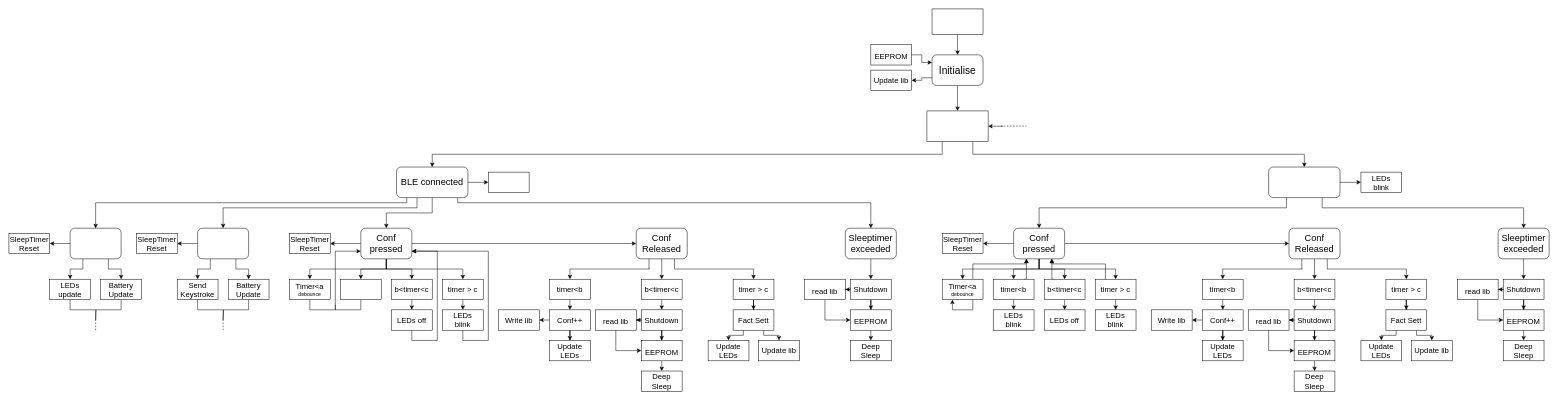
This 1558x400 diagram has some shape labels left out. The centre of each missing label's shape, as x and y in pixels:
"a<timer<b" goes at point (360, 289).
"BLE Char updated" goes at point (95, 243).
"BLE not connected" goes at point (1304, 182).
"Button pressed" goes at point (223, 243).
"LEDs on" goes at point (508, 182).
"Main" goes at point (957, 126).
"Power on" goes at point (957, 21).
